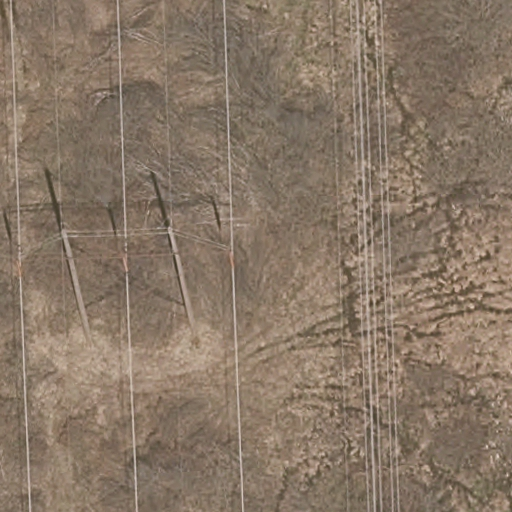TT: (19, 224, 233, 344)
